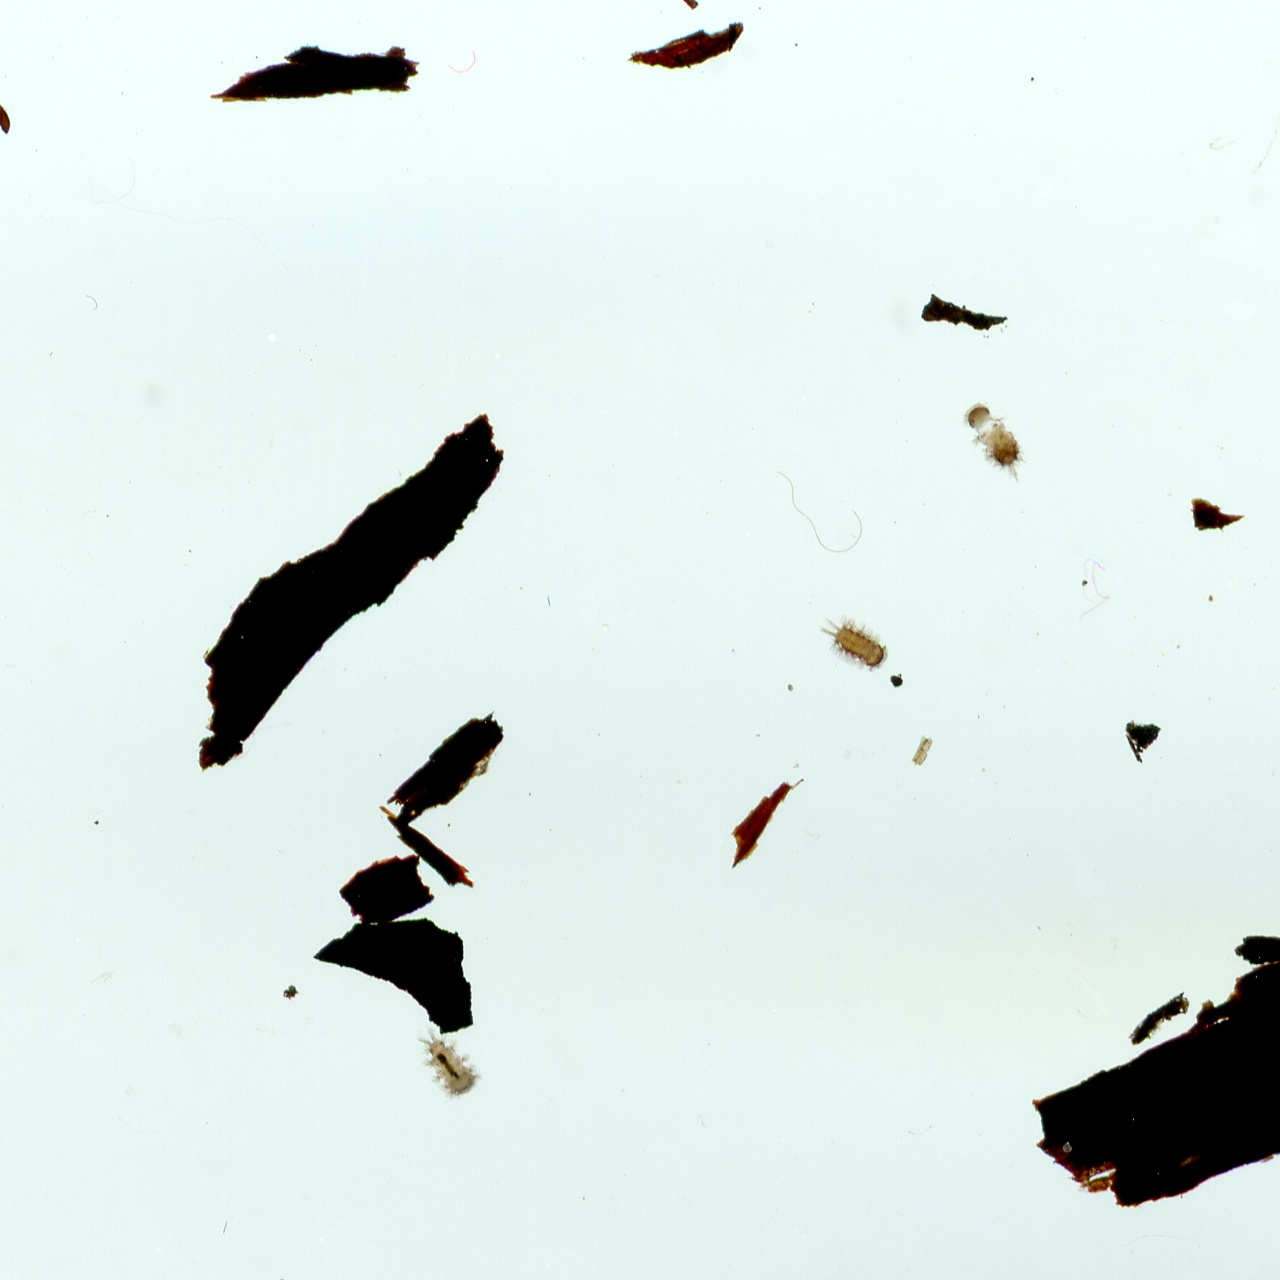arthropod: (948, 389, 1049, 495), (400, 1006, 496, 1111), (806, 599, 903, 685), (0, 98, 18, 141)
